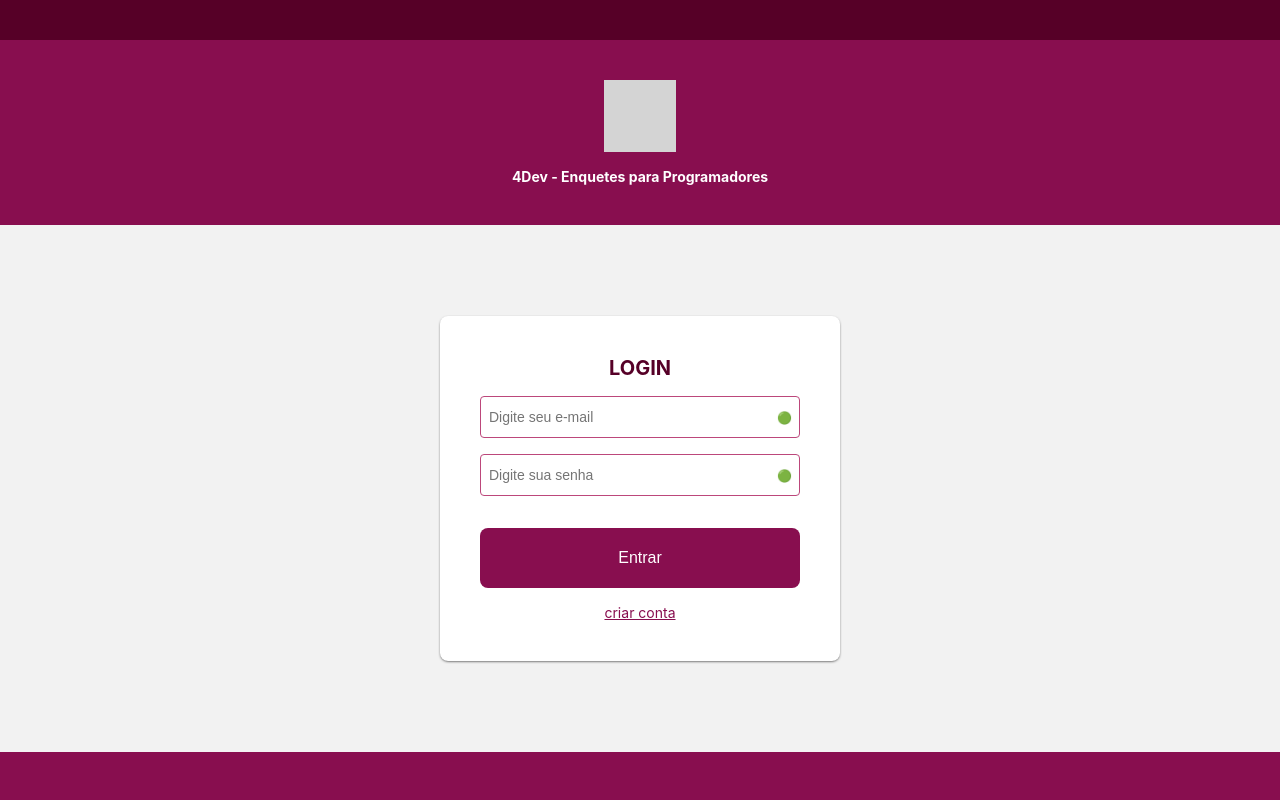
Test: Login Component › Should show spinner on submit
Type "any_email" into the field with test id "email" at (640,417), box [480,396,800,438]
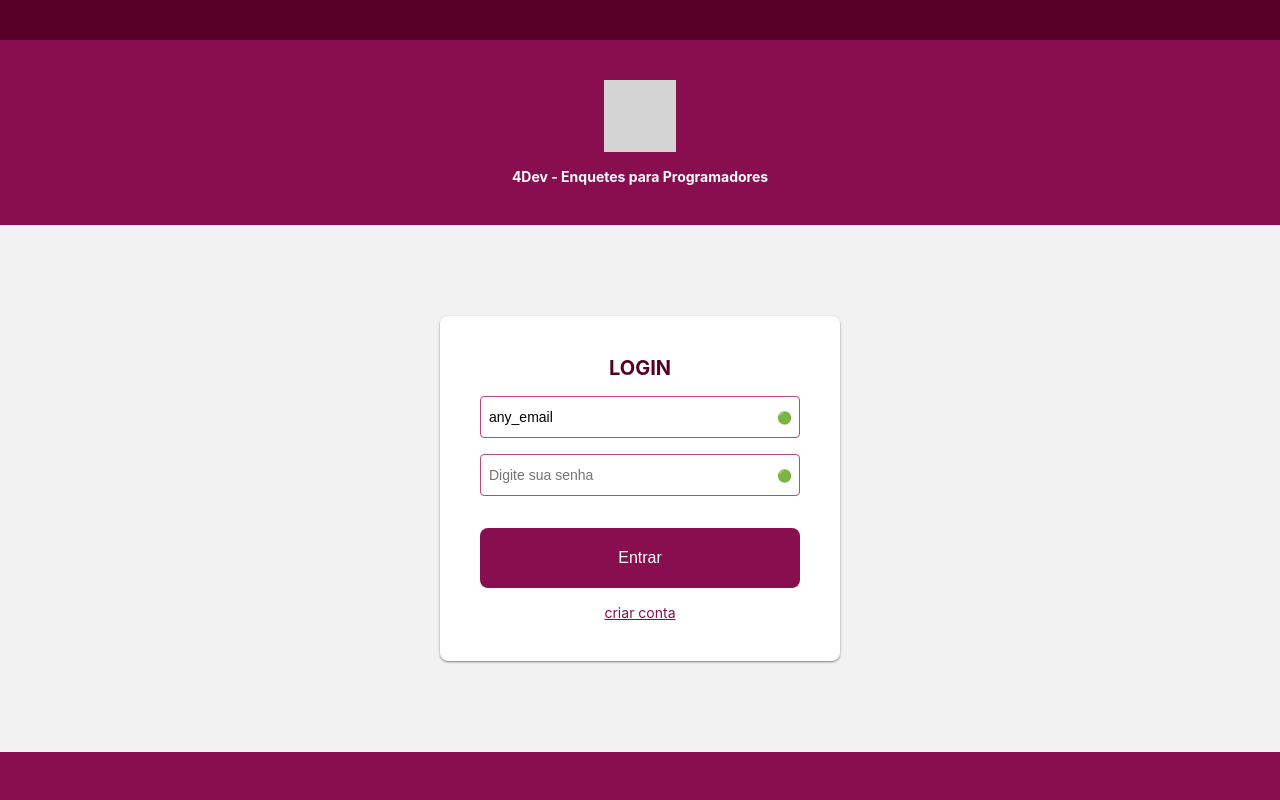
Type "any_password" into the password field with test id "password" at (640,475), box [480,454,800,496]
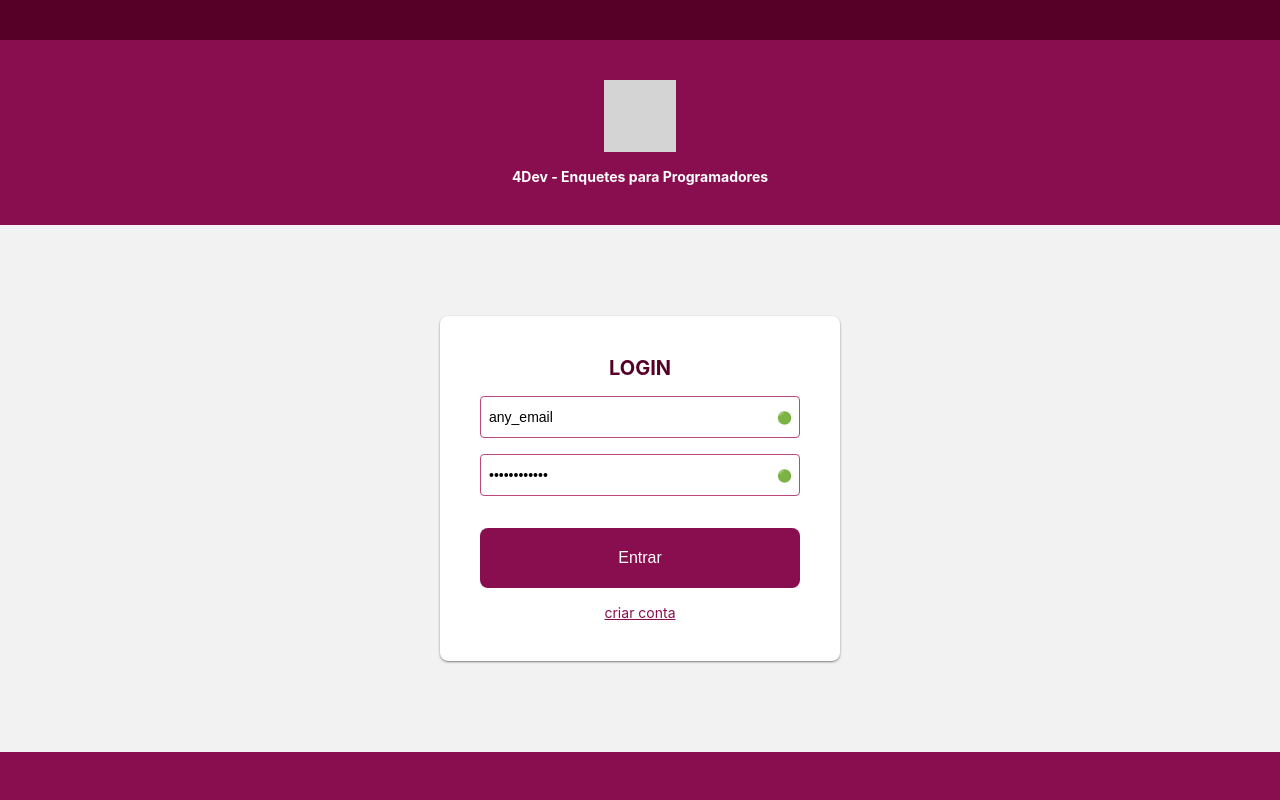
Click the button with test id "submit" at (640,558), box [480,528,800,588]
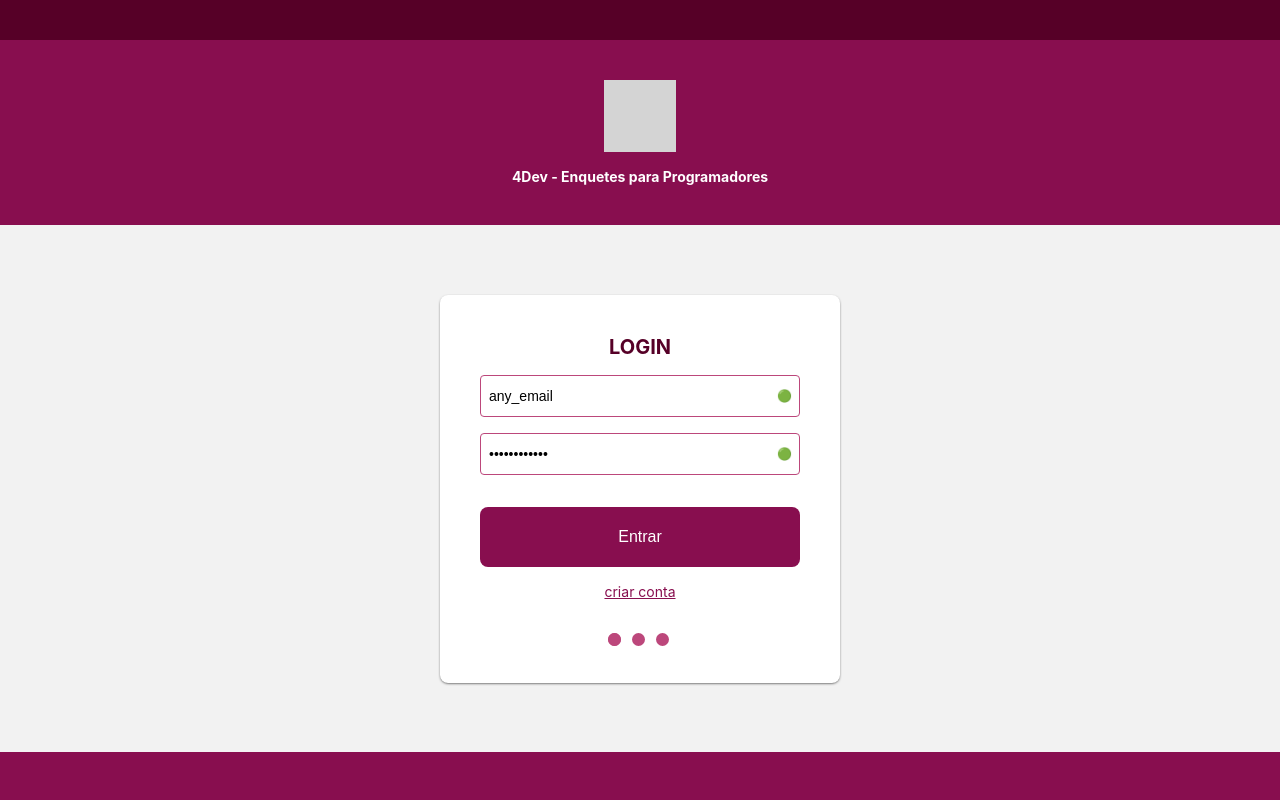
expect the element with test id "spinner" is shown: met, box [600,600,680,612]
